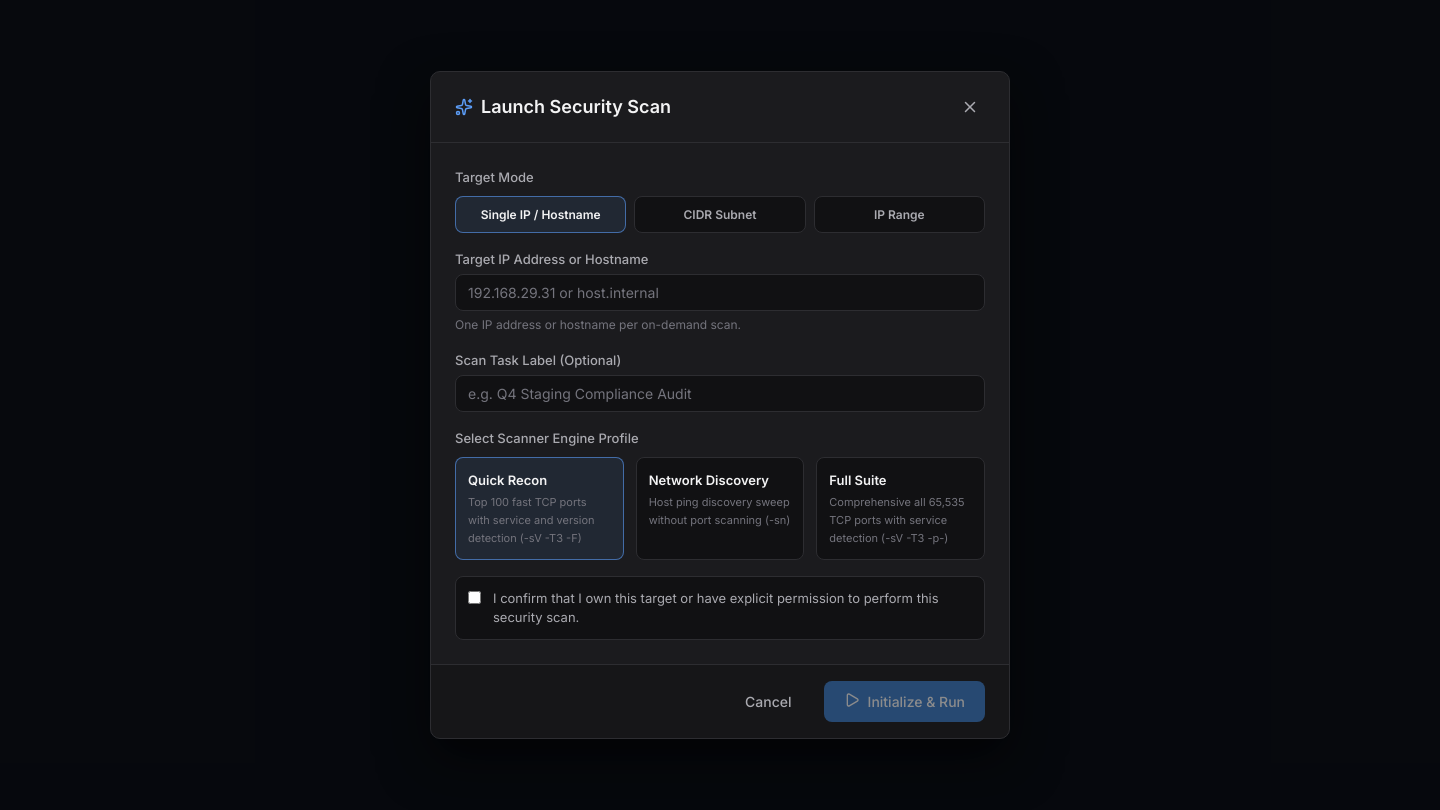
Test: Direct scan authorization workflow › requires confirmation again after the target changes
Step 1. Type "192.168.29.31" into the field labelled "Target IP Address or Hostname" → (720, 292), box [456, 275, 984, 310]
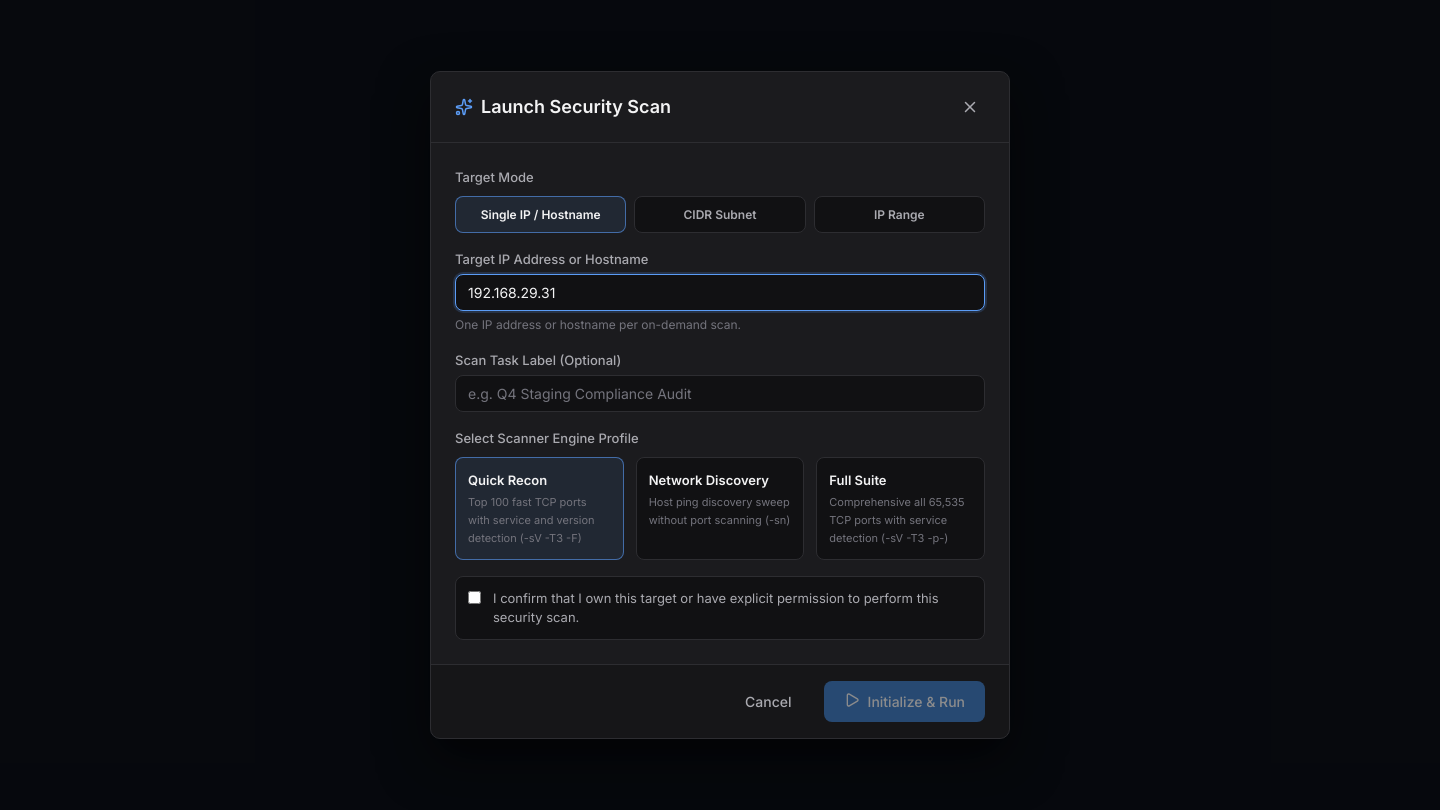
Step 2. Click the checkbox labelled "own this target or have explicit permission" → (474, 598), box [468, 591, 481, 604]
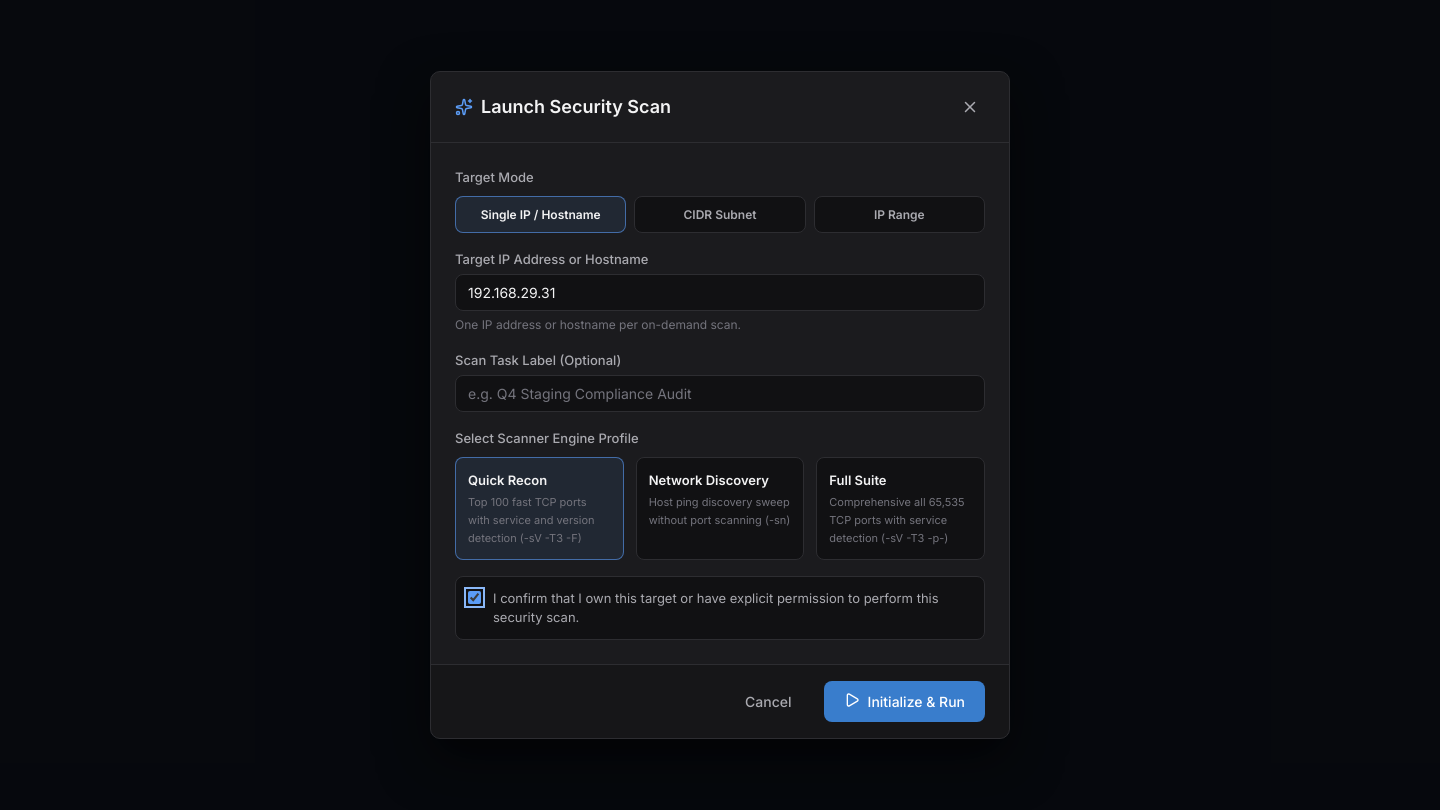
Check: the button "Initialize & Run" is enabled, box [824, 681, 985, 722]
Step 3. Type "2" into the field labelled "Target IP Address or Hostname" → (720, 292), box [456, 275, 984, 310]
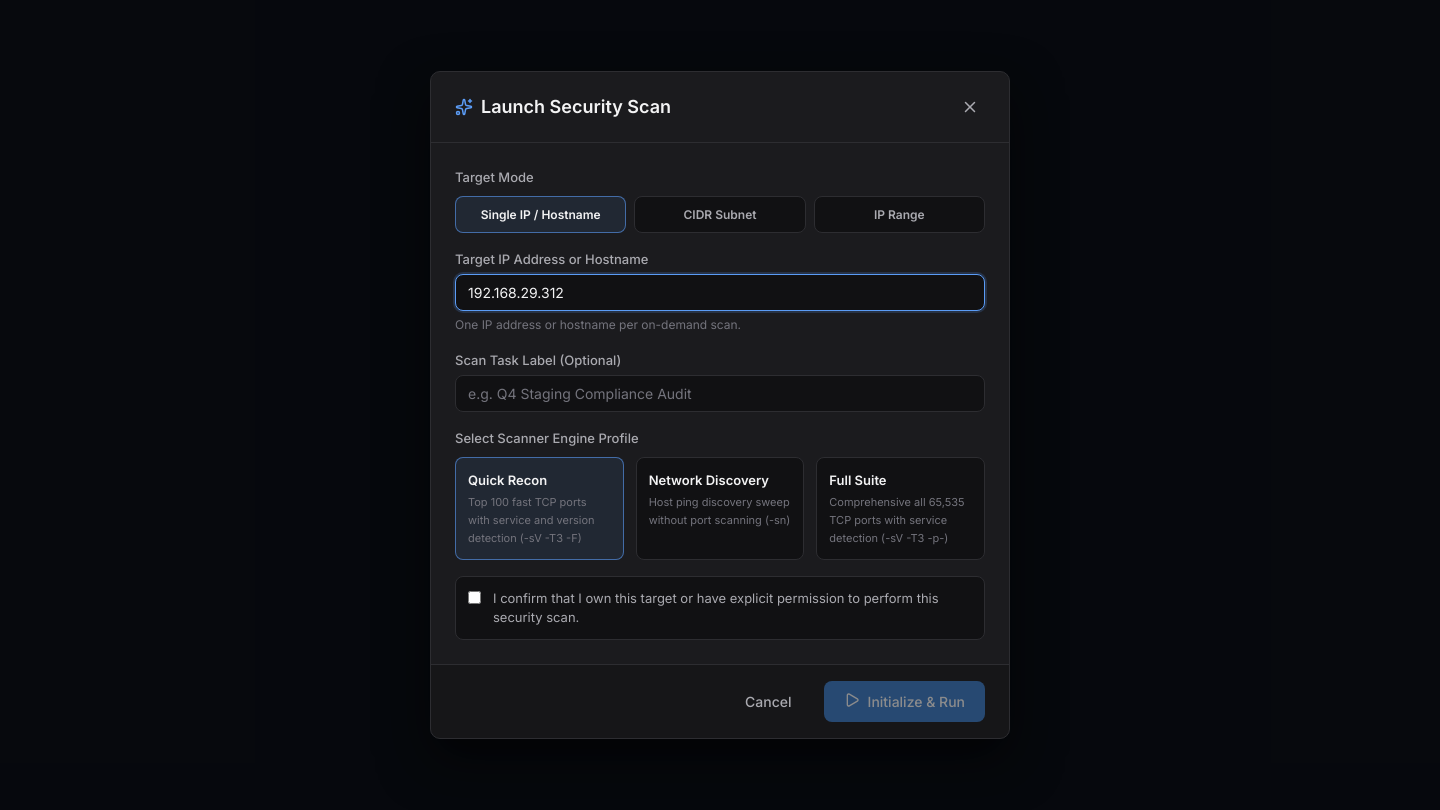
Check: the checkbox labelled "own this target or have explicit permission" is not checked, box [468, 591, 481, 604]
Check: the button "Initialize & Run" is disabled, box [824, 681, 985, 722]
